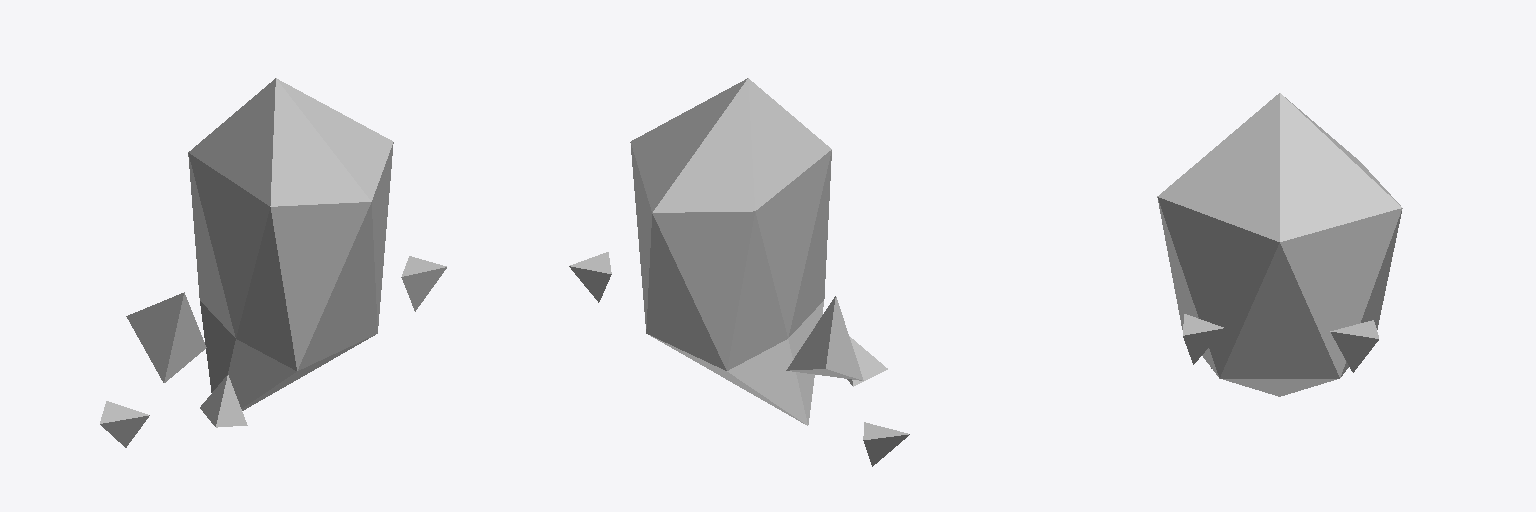
The model's file is fantasma.obj.
3 renders of one model, left to right at view 1: azimuth 30°, elevation 25°; view 2: azimuth 150°, elevation 25°; view 3: azimuth 270°, elevation 25°, orthographic.
Visible parts, largest first — view 1: Icosphere, Cube_Cube.001, Cube.001_Cube.002, Cube.004_Cube.006, Cube.002_Cube.004; view 2: Icosphere, Cube_Cube.001, Cube.003_Cube.005, Cube.002_Cube.004, Cube.001_Cube.002; view 3: Icosphere, Cube.003_Cube.005, Cube.004_Cube.006.
Part boxes in pixels (x1,y1,x2,y2): Icosphere: (188, 78, 393, 410); Cube_Cube.001: (126, 292, 206, 382); Cube.001_Cube.002: (200, 375, 247, 427); Cube.004_Cube.006: (401, 256, 446, 311); Cube.002_Cube.004: (100, 401, 149, 447); Icosphere: (630, 78, 831, 425); Cube_Cube.001: (786, 296, 863, 380); Cube.003_Cube.005: (569, 252, 611, 302); Cube.002_Cube.004: (863, 422, 909, 466); Cube.001_Cube.002: (847, 336, 887, 386); Icosphere: (1157, 93, 1402, 396); Cube.003_Cube.005: (1330, 320, 1378, 372); Cube.004_Cube.006: (1183, 314, 1224, 364).
Size of the model in its own units: 12.38 by 13.69 by 8.79.